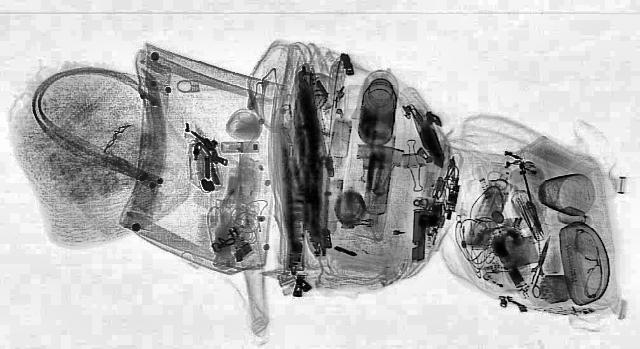Knife: (524, 236, 558, 286)
